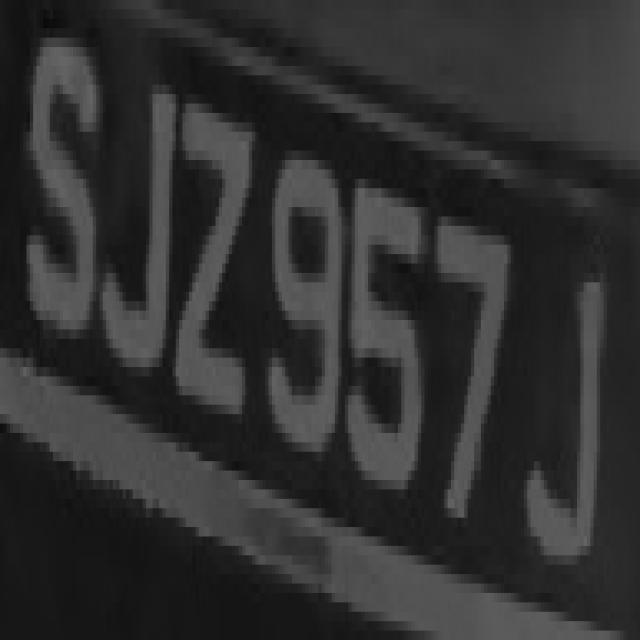5: (335, 122, 428, 527)
7: (421, 160, 511, 536)
9: (265, 104, 345, 480)
J: (511, 188, 616, 574), (96, 28, 179, 405)
S: (23, 19, 106, 386)
Z: (166, 56, 249, 452)
